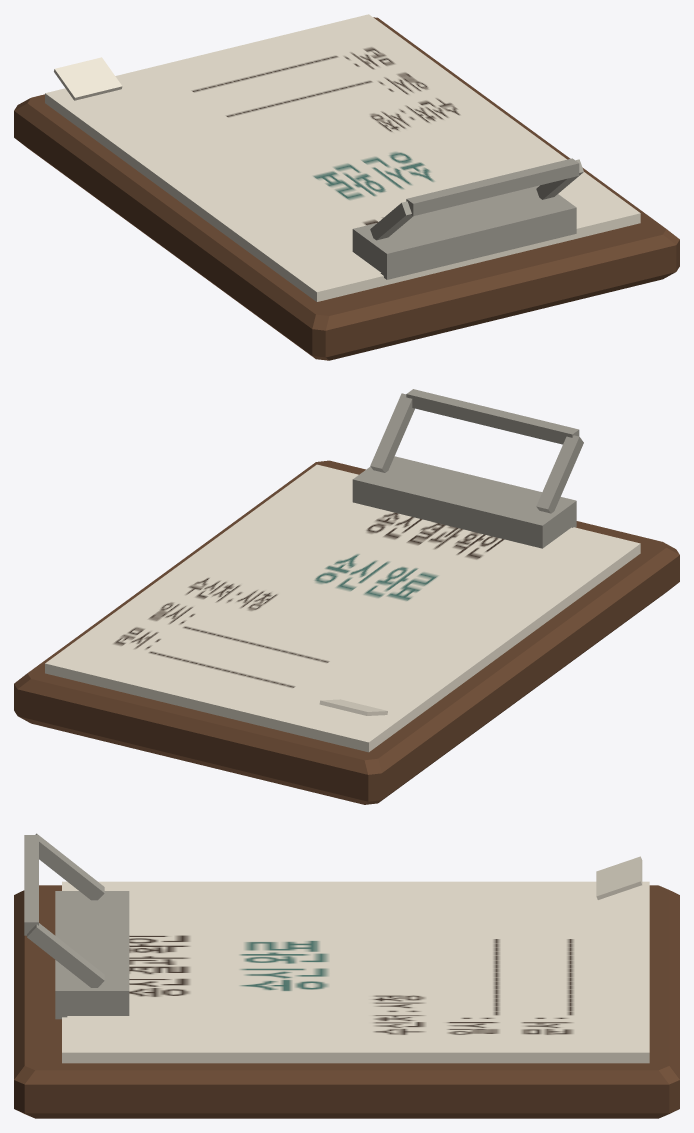
Rendered from W09_Fax_Transmission_Report.fbx.
3 views of the same model, one above another, from view 1: azimuth 30°, elevation 25°; view 2: azimuth 150°, elevation 25°; view 3: azimuth 270°, elevation 25° (orthographic). The views are drawn at different scales.
Parts seen in each view (by area): view 1: Transmission_Report, Structure, Clip; view 2: Transmission_Report, Structure, Clip; view 3: Transmission_Report, Structure, Clip.
Boxes of the visible parts, bbox=[...] form: Transmission_Report: bbox=[45, 14, 640, 301]; Structure: bbox=[14, 17, 679, 360]; Clip: bbox=[352, 158, 583, 279]; Transmission_Report: bbox=[45, 464, 640, 752]; Structure: bbox=[14, 460, 679, 804]; Clip: bbox=[352, 389, 583, 548]; Transmission_Report: bbox=[62, 856, 649, 1063]; Structure: bbox=[14, 885, 679, 1118]; Clip: bbox=[24, 833, 129, 1019].
Bounding box in the file's own units: 0.31 × 0.11 × 0.45.
Materials: 5 (1 with a texture image).
